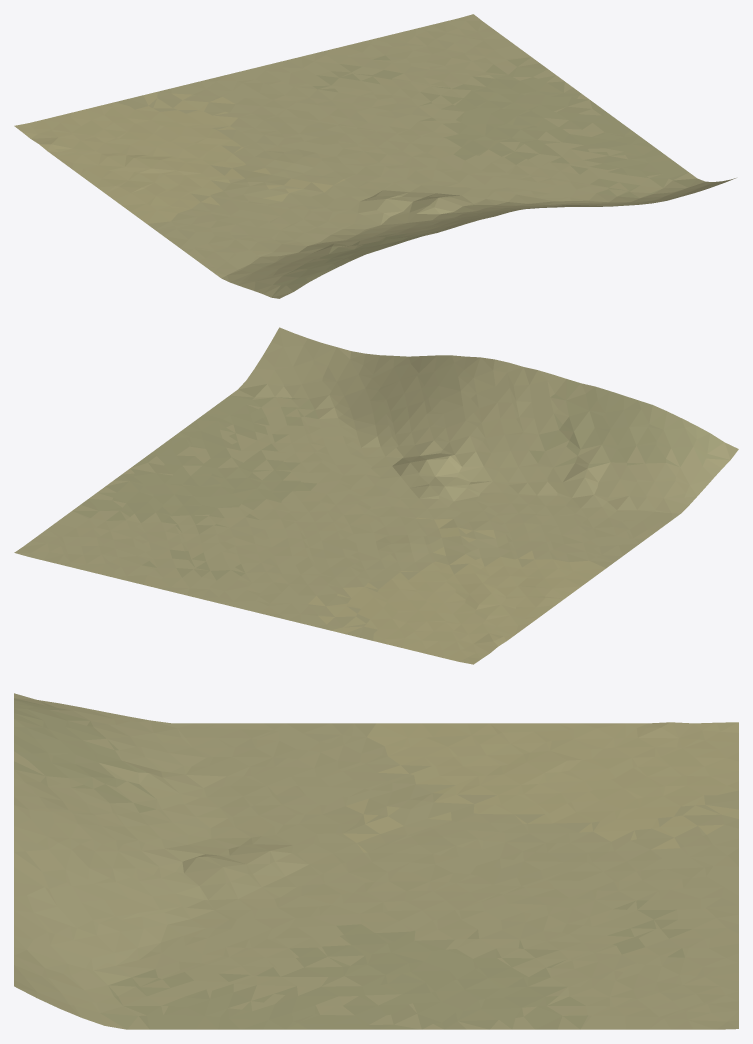
Rendered from Ground_5_-5.glb.
3 views of the same model, one above another, from view 1: azimuth 30°, elevation 25°; view 2: azimuth 150°, elevation 25°; view 3: azimuth 270°, elevation 25° (orthographic). The views are drawn at different scales.
Parts seen in each view (by area): view 1: Ground_5_-5; view 2: Ground_5_-5; view 3: Ground_5_-5.
Boxes of the visible parts, x1,y1,x2,y2 form: Ground_5_-5: (14, 14, 735, 298); Ground_5_-5: (14, 327, 738, 664); Ground_5_-5: (14, 693, 738, 1029).
Size of the model in its own units: 768 by 83.82 by 768.
